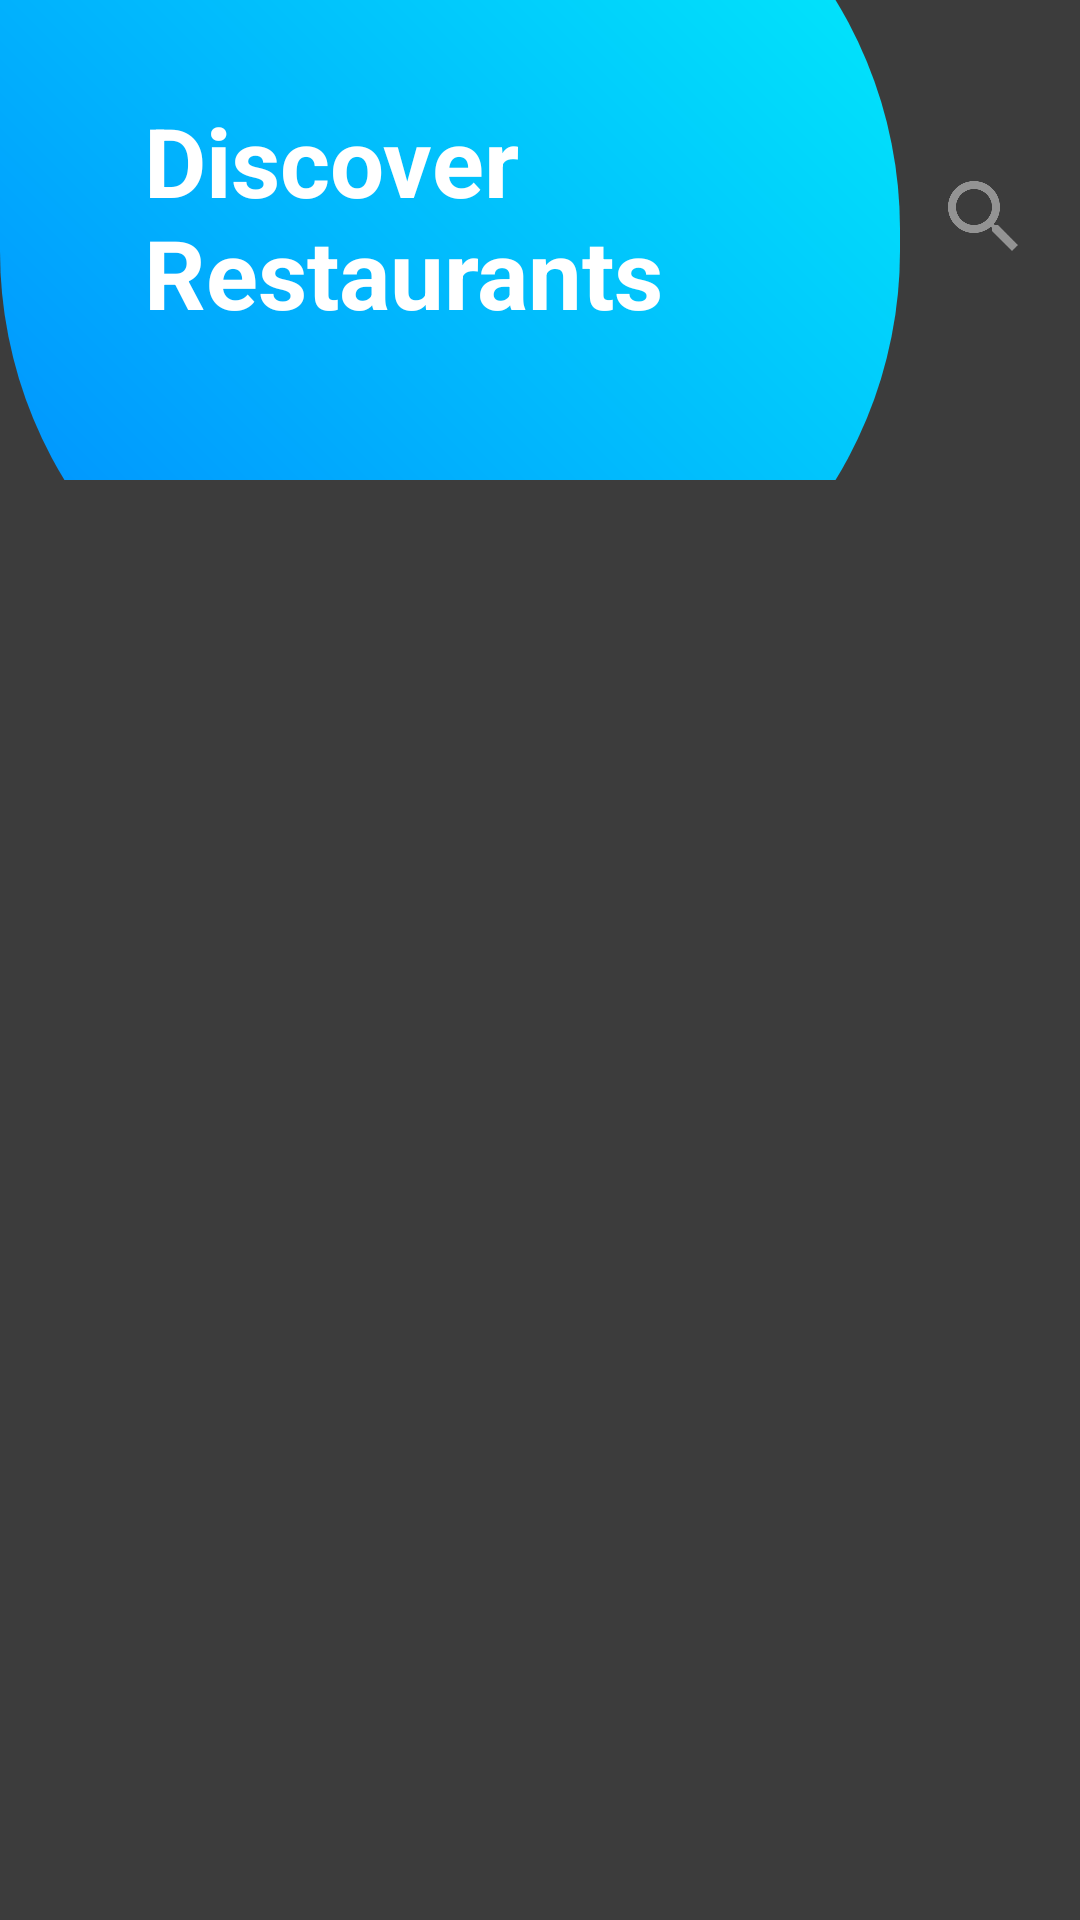

Point at icon controls on the screen. Image size 1080 x 1920, points as (x,y).
search: (983,216)
